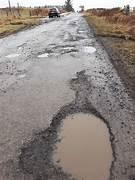pothole: (56, 110, 112, 179), (37, 53, 48, 57)
